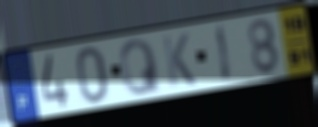0: (74, 44, 111, 106)
4: (40, 51, 70, 110)
8: (246, 16, 281, 77)
I: (214, 22, 235, 85)
K: (160, 31, 199, 89)
Q: (118, 37, 164, 98)
